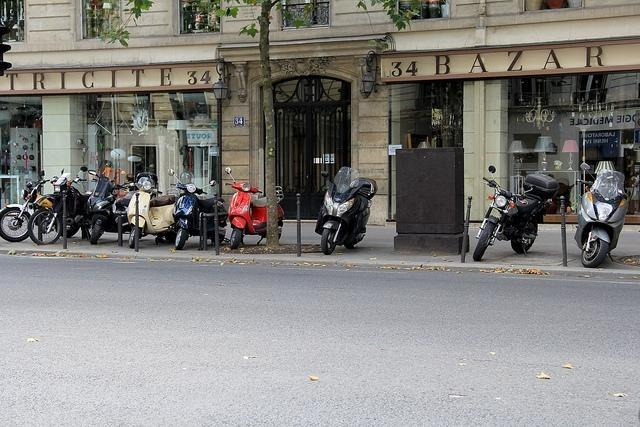motorcycle: (469, 166, 558, 263), (574, 162, 634, 268), (162, 166, 226, 256), (314, 167, 378, 255), (27, 166, 94, 246), (224, 165, 284, 249), (88, 170, 138, 248), (0, 168, 50, 242), (128, 177, 178, 249)
